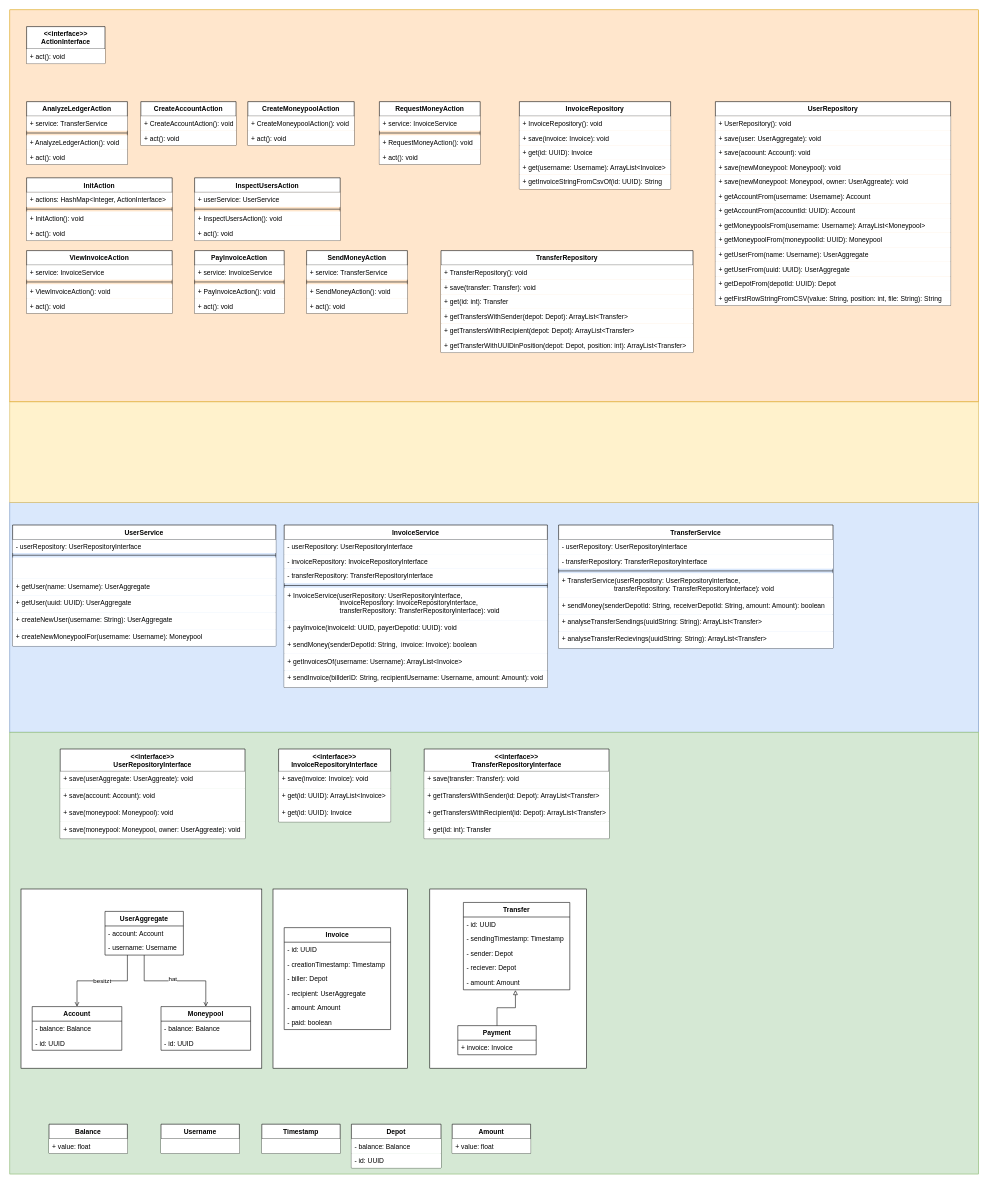
The diagram is 988 pixels wide and 1184 high, and some of its shapes have lost their labels. The centre of each missing label's shape, as x and y in pixels:
"+ unixTime: long" belongs at point 301,1145.
"+ UserService(userRepository: UserRepositoryInterface): void" belongs at point 144,567.
"+ value: String" belongs at point 200,1145.
